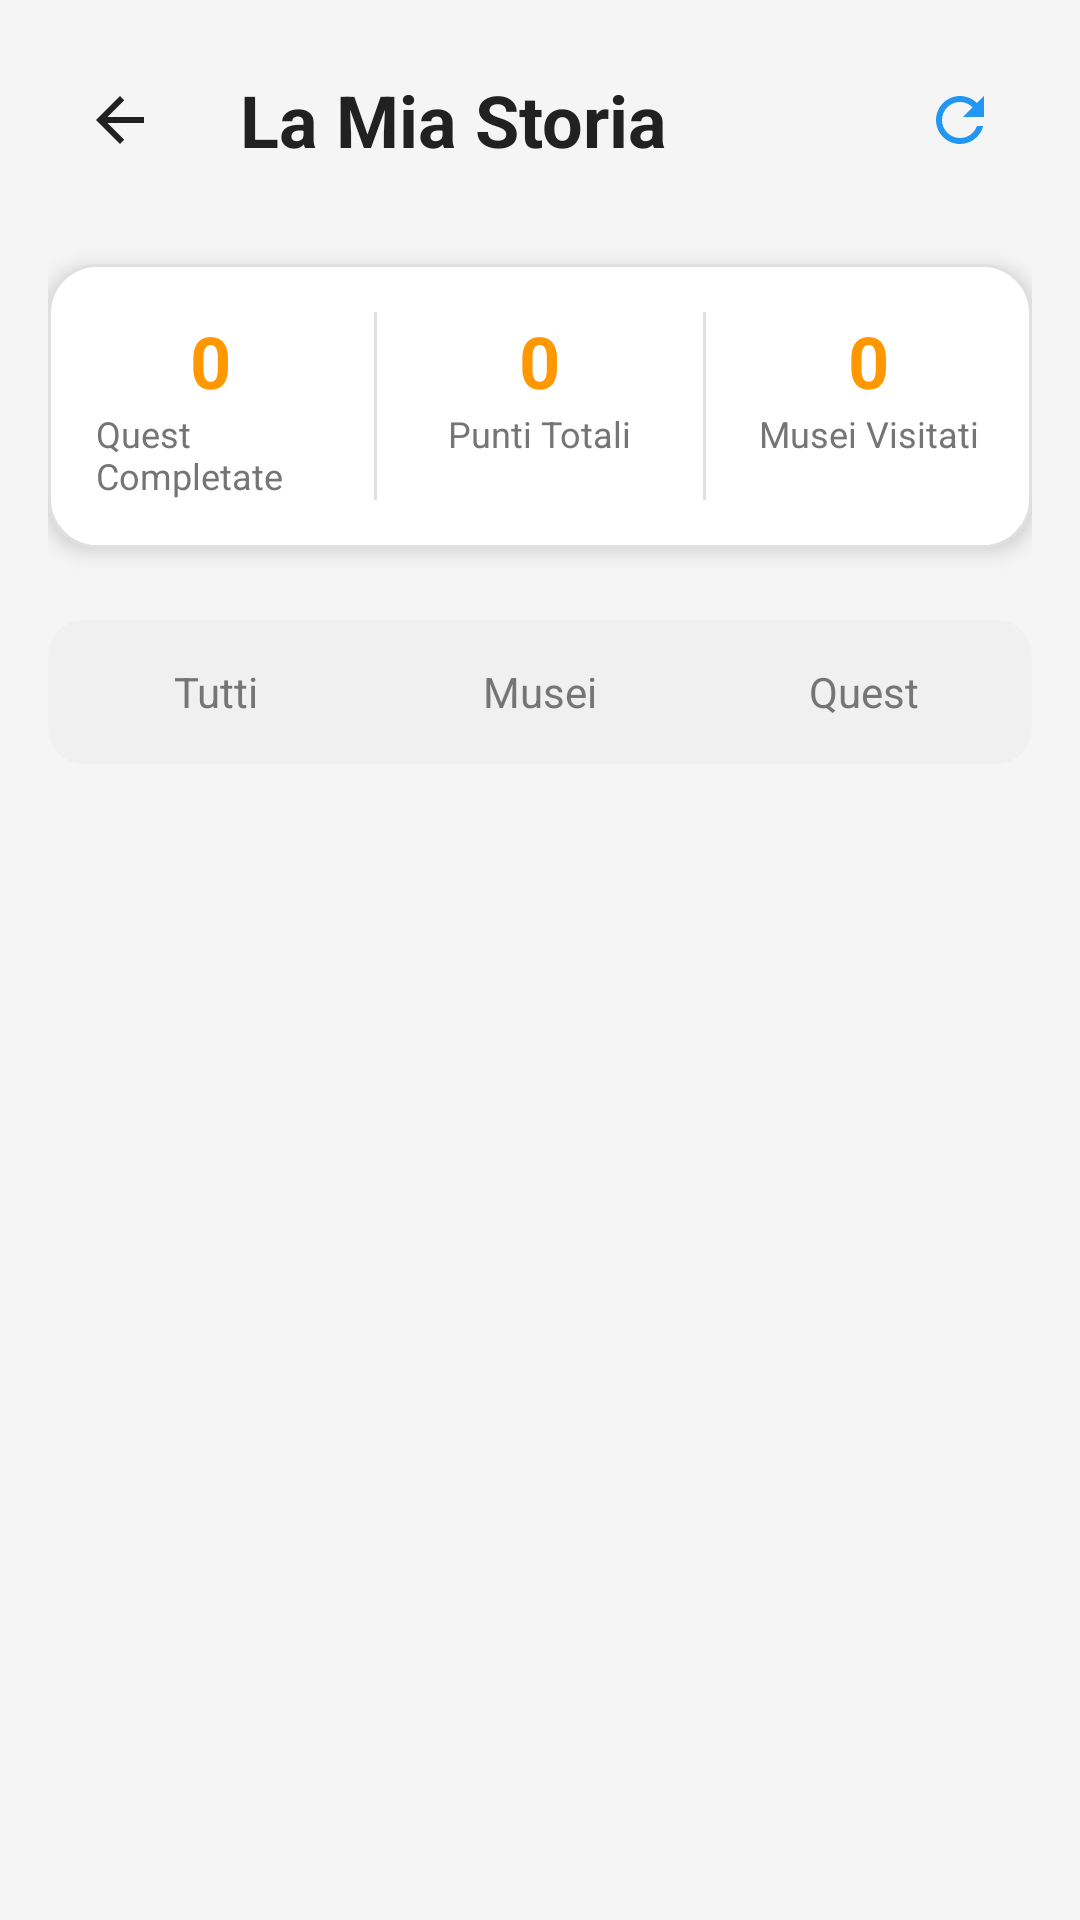

Named icons in this screenshot (1080px×1920px) and their bounding boxes, (x1, y1, x2, y2):
Aggiorna: (936, 96, 984, 144)
Torna indietro: (96, 96, 144, 144)
